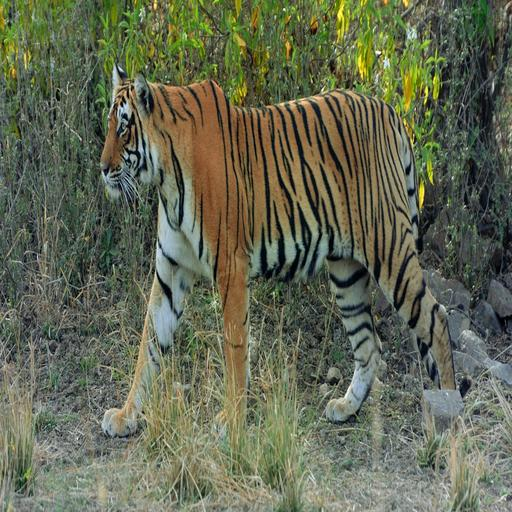Tiger: (79, 64, 466, 468)
